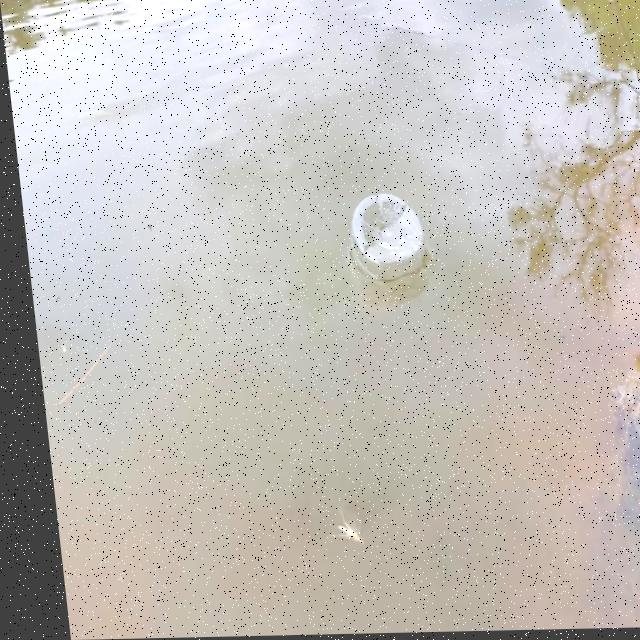waterbottle: (295, 171, 454, 316), (293, 167, 297, 177)
